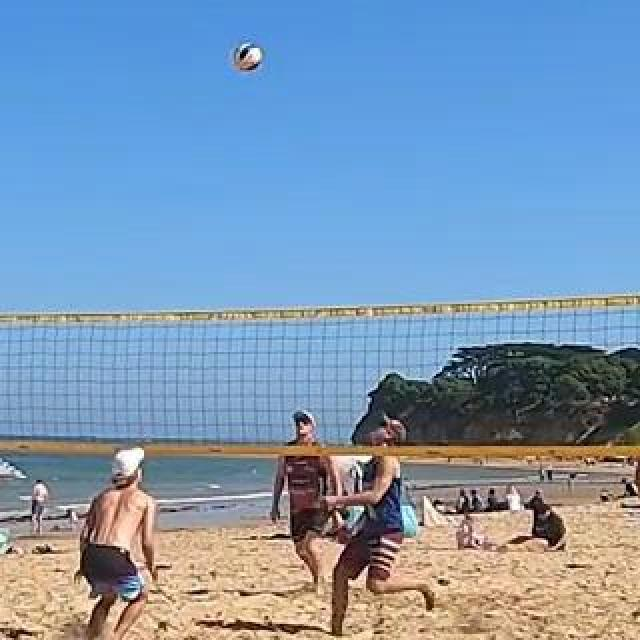volleyball: (233, 45, 261, 73)
